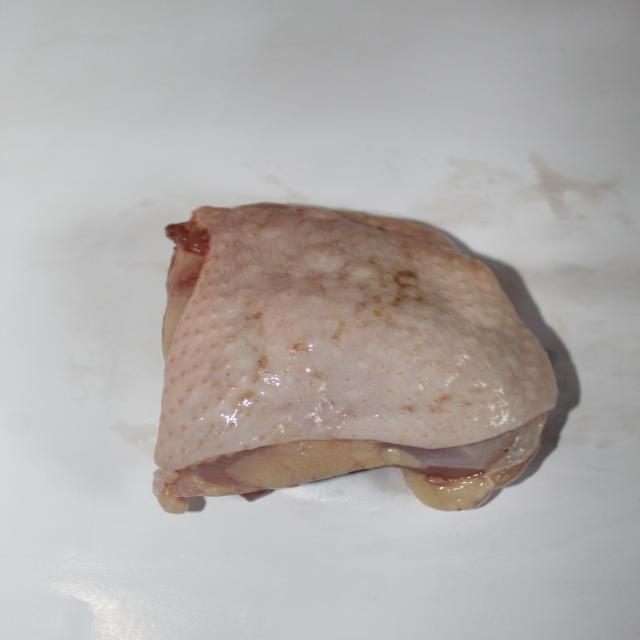chicken: (162, 201, 558, 514)
